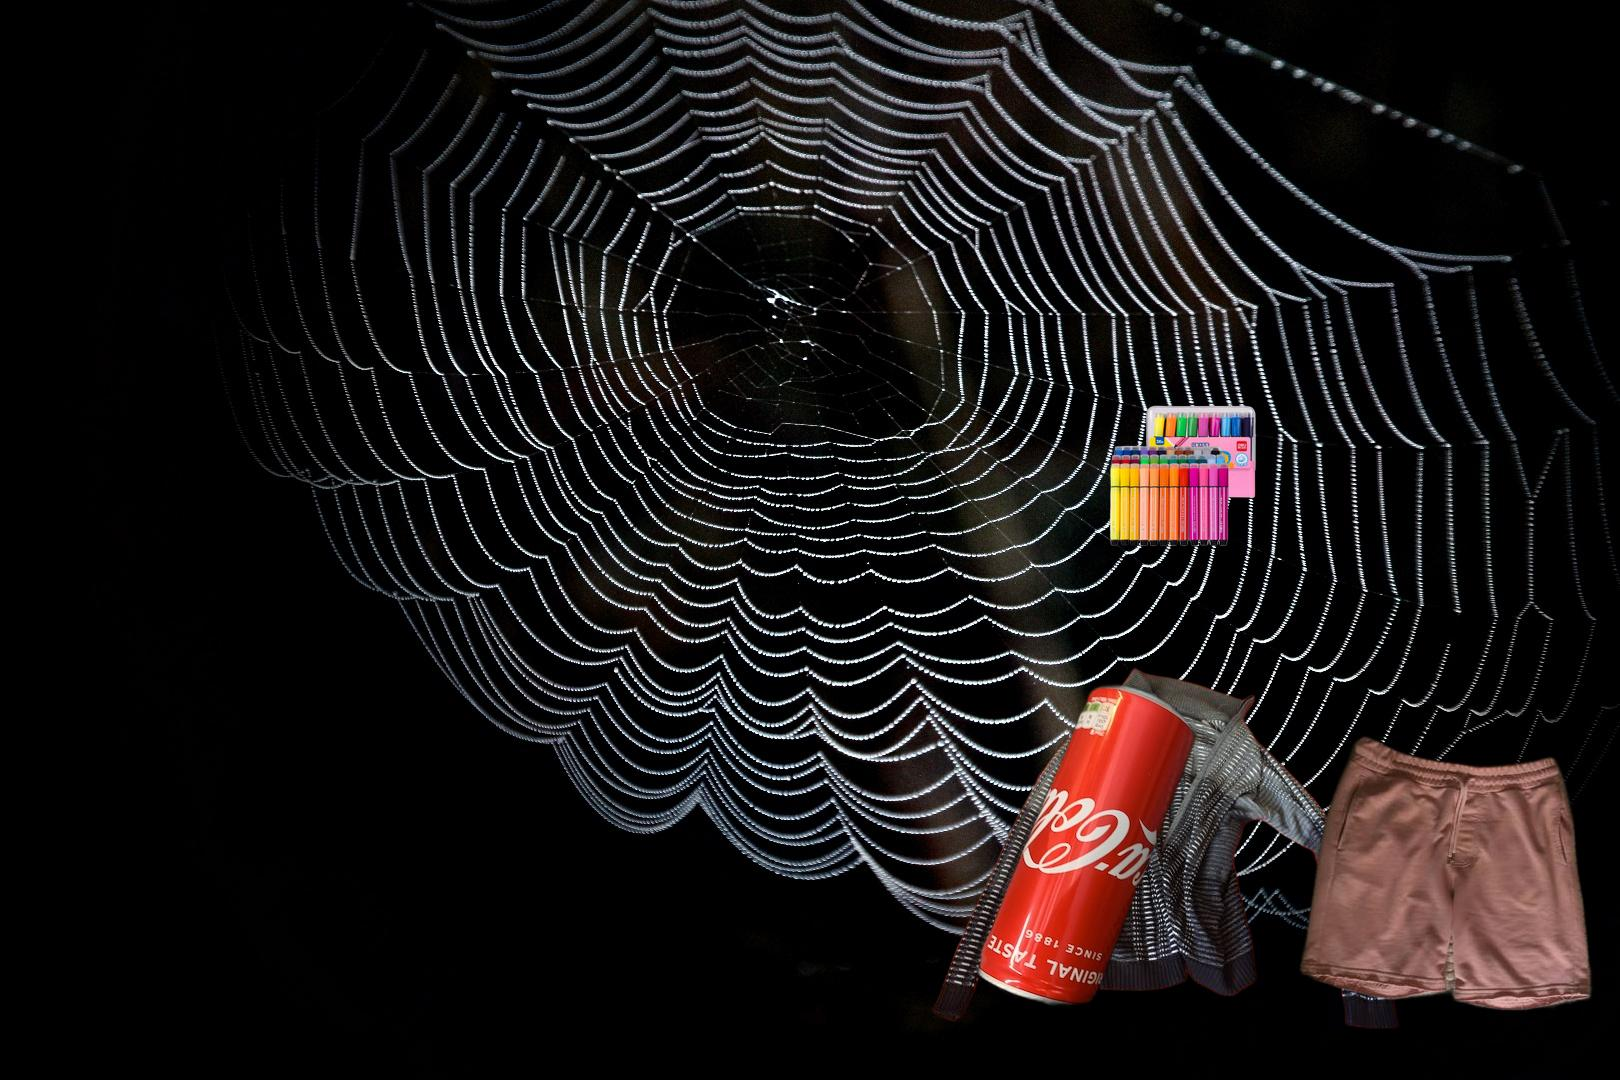clothes: (927, 661, 1404, 1031), (1295, 730, 1598, 1016)
metal-cans: (972, 679, 1201, 1011)
penholder: (1108, 403, 1258, 548)
